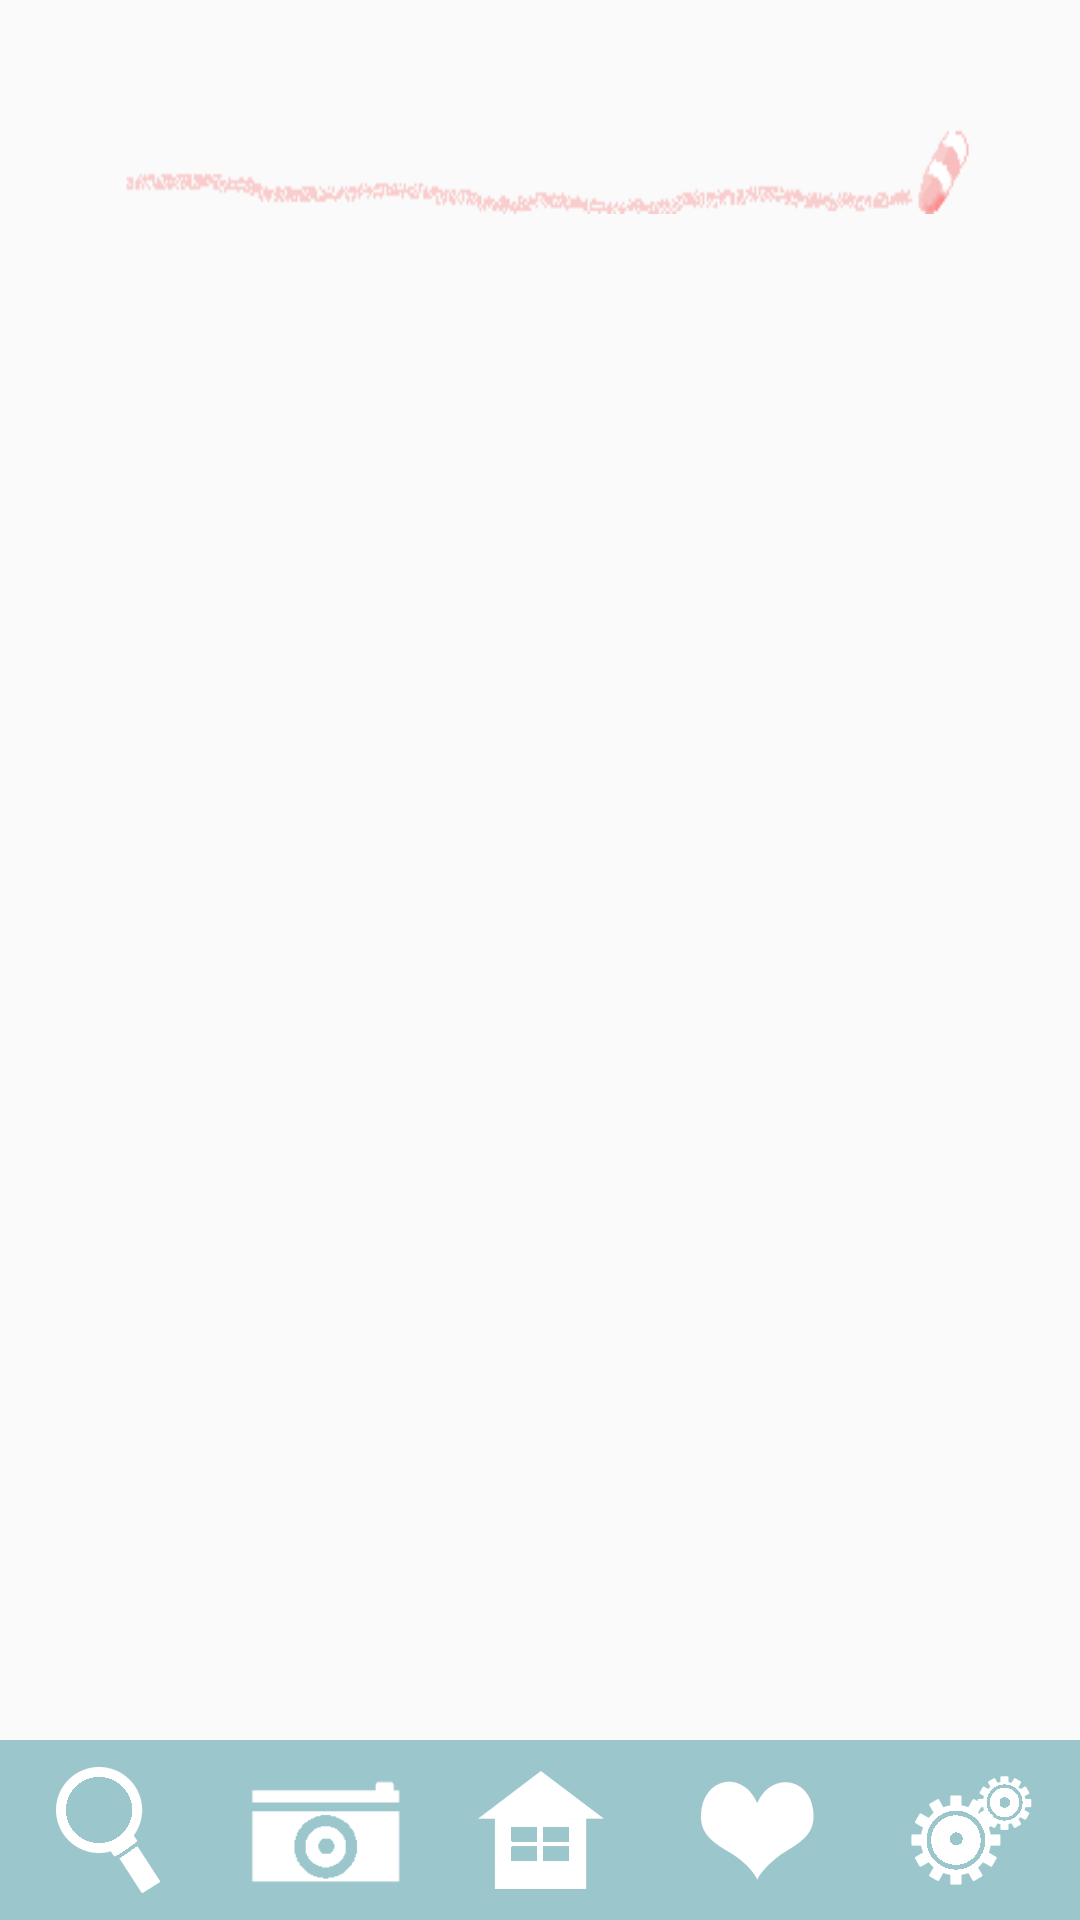

Locate icon controls on the screen. Image size 1080×1920, boxes as box=[x1, y1, x2, y2].
home: box=[478, 1771, 604, 1889]
like: box=[701, 1781, 814, 1880]
search: box=[56, 1767, 160, 1893]
setting: box=[911, 1776, 1032, 1885]
